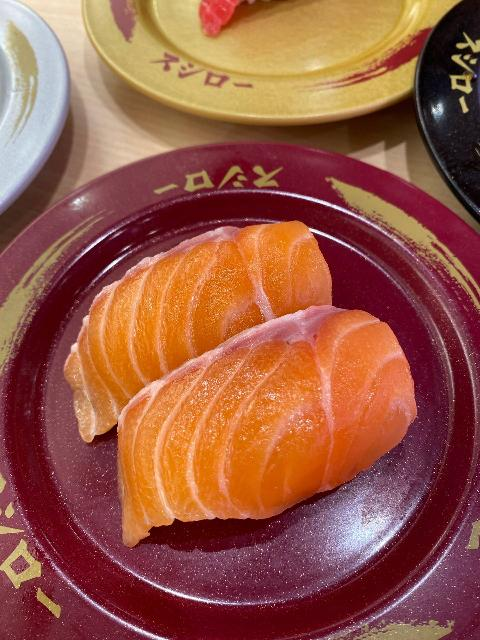janback: (426, 0, 480, 236)
jangold: (80, 0, 443, 118)
janred: (18, 148, 480, 640)
janwhite: (0, 2, 76, 201)
